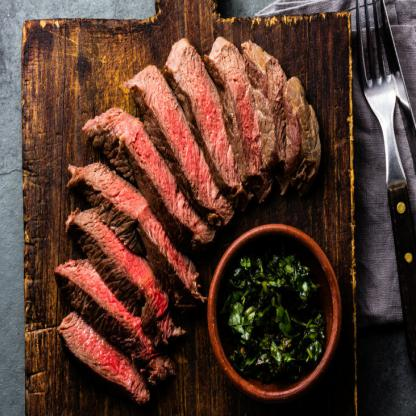Carne: (117, 71, 240, 226), (69, 164, 206, 302), (61, 209, 178, 340), (86, 112, 208, 236), (53, 258, 171, 386), (164, 49, 252, 187), (213, 36, 282, 180), (52, 314, 151, 409), (276, 84, 332, 187)
